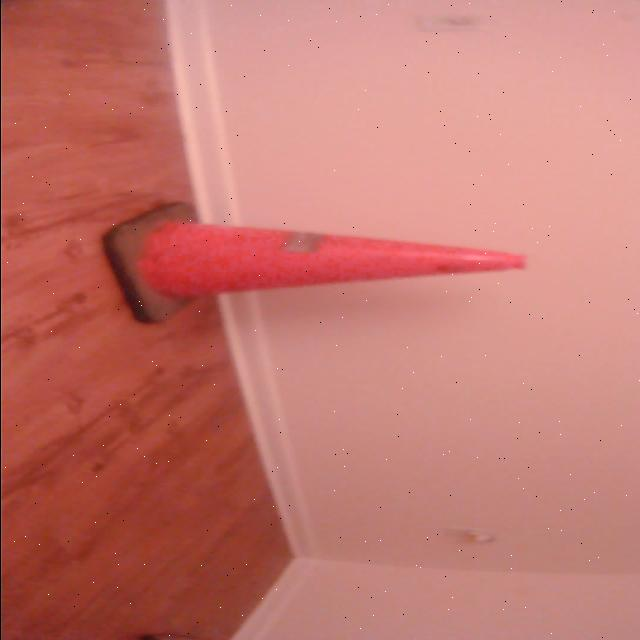traffic cone: (90, 197, 536, 329)
